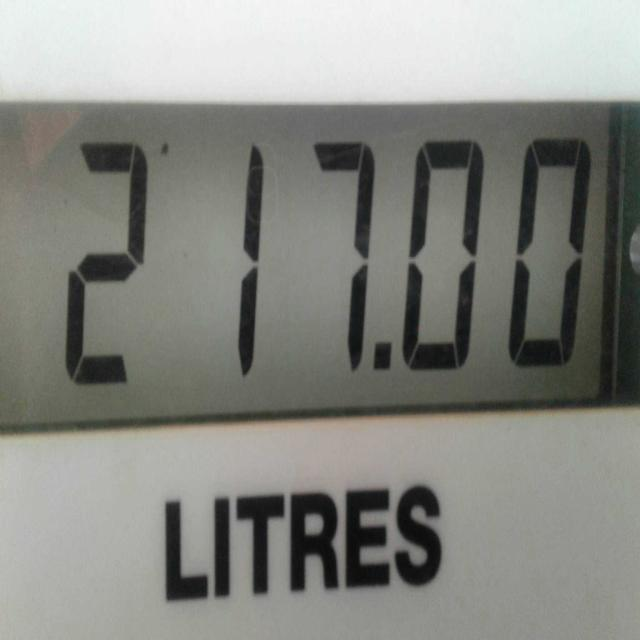.: (367, 322, 397, 393)
0: (398, 124, 495, 388), (508, 125, 594, 375)
1: (205, 130, 286, 379)
2: (60, 125, 155, 402)
7: (298, 134, 379, 386)
